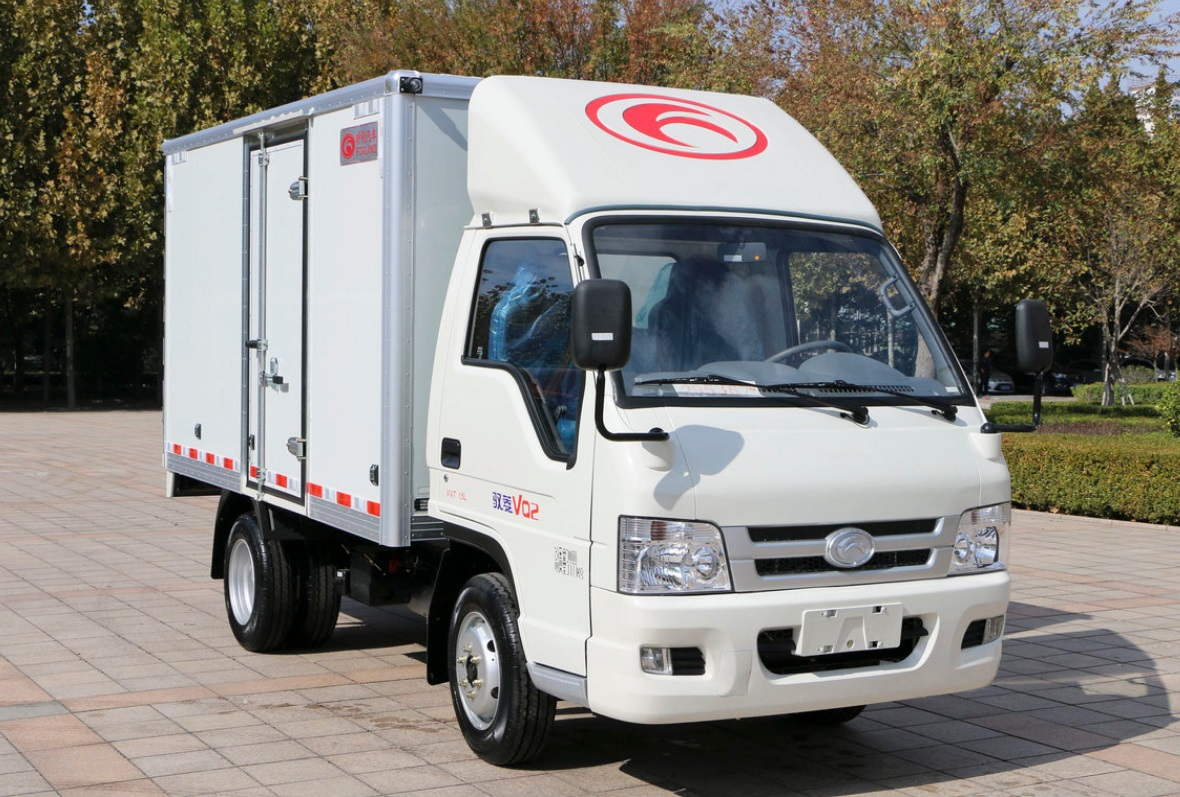truck: (157, 61, 1059, 772)
